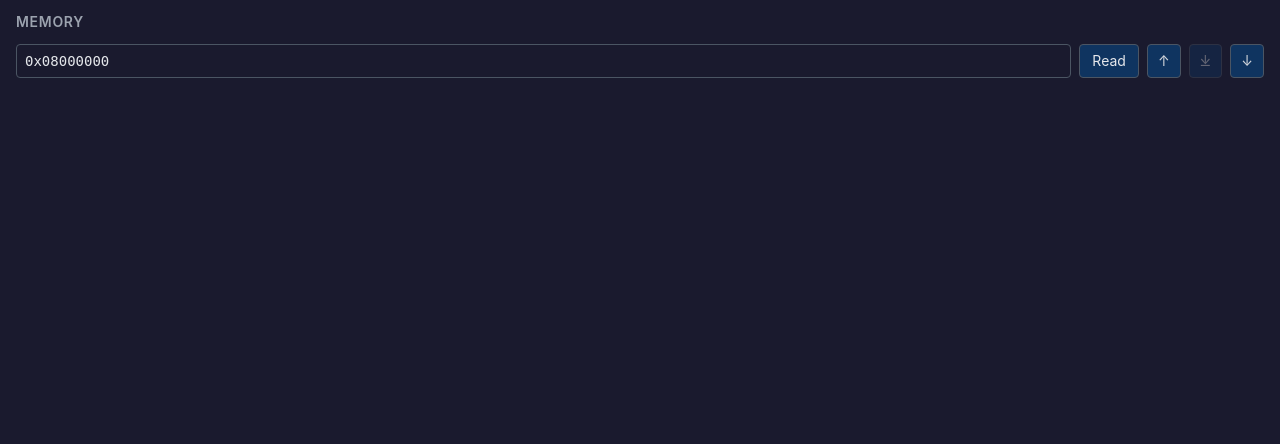
MemoryViewer › reads the requested address and renders hex and ASCII
Click the button "Read".
click(1109, 61)  # box [1079,44,1139,78]
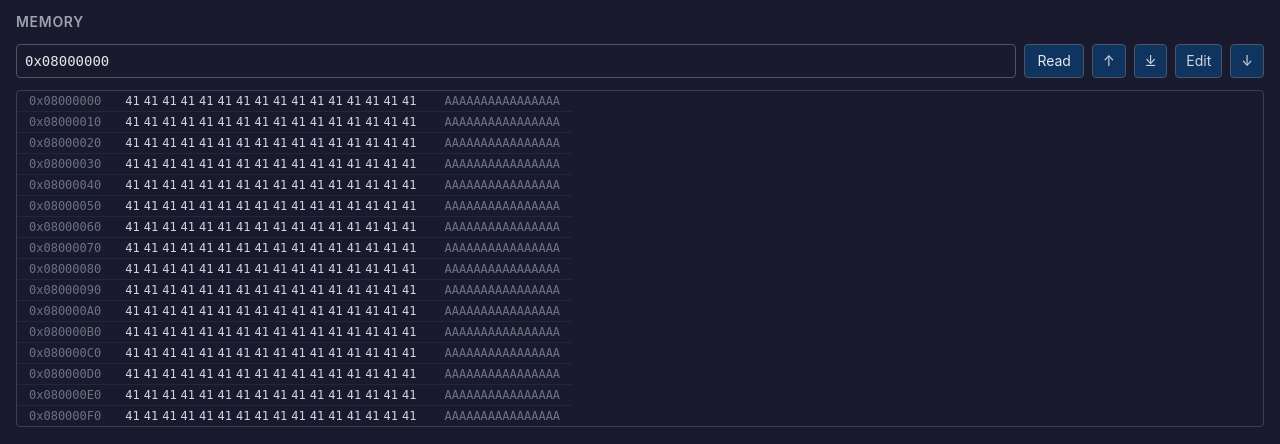
Check: the text "0x08000000" is shown, box [17,91,113,112]
Check: the text "AAAAAAAAAAAAAAAA" in the row of "0x08000000" is shown, box [444,94,560,108]
